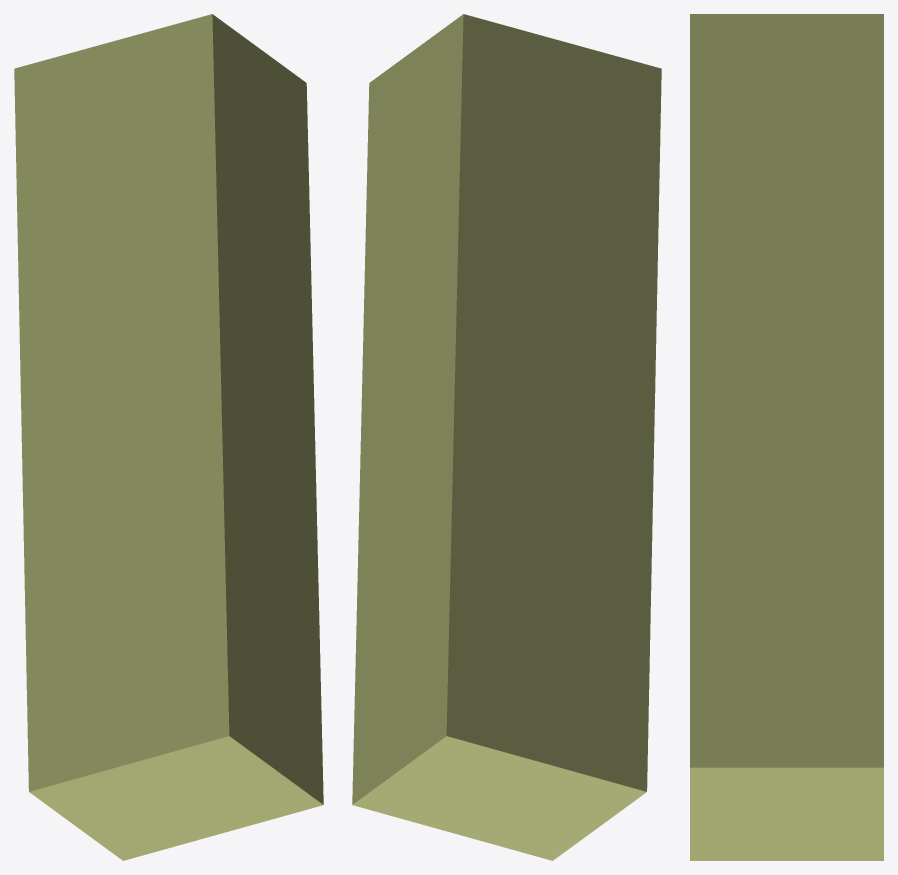
3 views of the same model, side by side, from view 1: azimuth 30°, elevation 25°; view 2: azimuth 150°, elevation 25°; view 3: azimuth 270°, elevation 25° (orthographic). The views are drawn at different scales.
Parts seen in each view (by area): view 1: 0_2_0_1_1_2_2_2_1_1; view 2: 0_2_0_1_1_2_2_2_1_1; view 3: 0_2_0_1_1_2_2_2_1_1.
Part boxes in pixels (box(x1,y1,x2,y2)): 0_2_0_1_1_2_2_2_1_1: box(14, 14, 323, 860); 0_2_0_1_1_2_2_2_1_1: box(352, 14, 661, 860); 0_2_0_1_1_2_2_2_1_1: box(690, 14, 883, 860).
Bounding box in the file's own units: 7.9 × 25.73 × 6.
